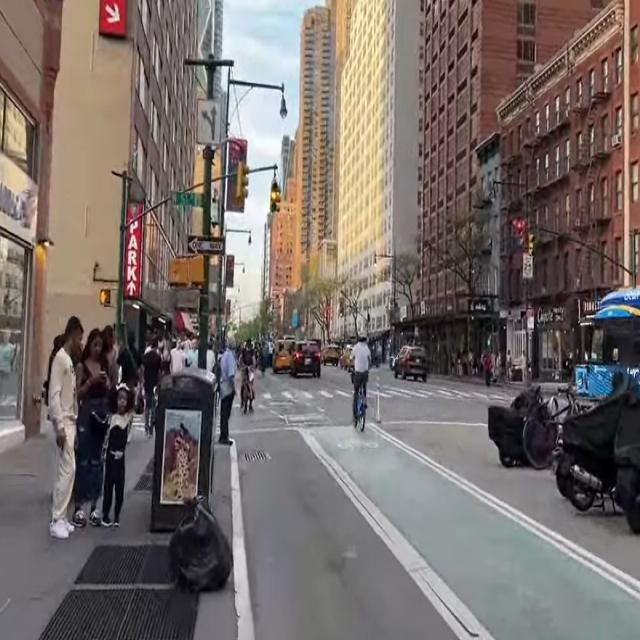Trashbag: (168, 509, 235, 592)
